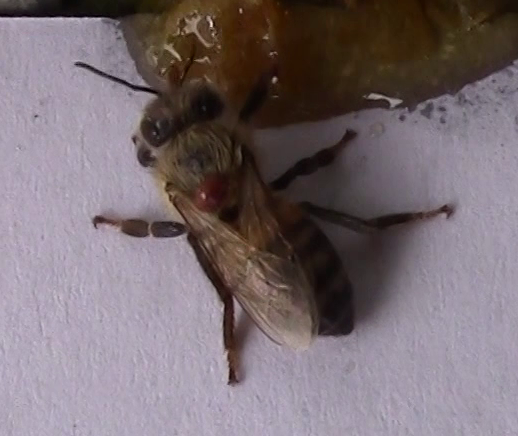Varroa destructor: (191, 172, 232, 212)
